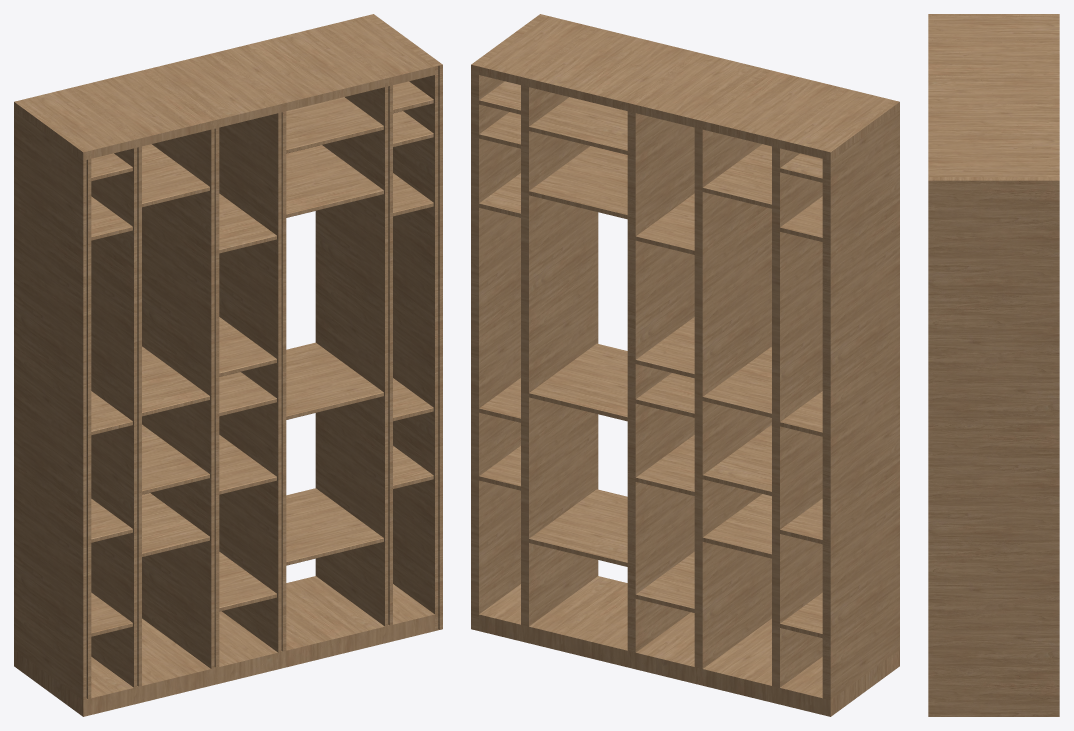
File: hotel-book-shelf.glb
The picture shows the model from 3 angles, left to right: view 1: azimuth 30°, elevation 25°; view 2: azimuth 150°, elevation 25°; view 3: azimuth 270°, elevation 25°; orthographic projection. The views are drawn at different scales.
Visible parts, largest first — view 1: book-shelf; view 2: book-shelf; view 3: book-shelf.
Part boxes in pixels (x1,y1,x2,y2): book-shelf: (14, 14, 442, 716); book-shelf: (471, 14, 899, 716); book-shelf: (928, 14, 1059, 716).
Size of the model in its own units: 1.8 by 2.7 by 0.6001.
Materials: 1 (1 with a texture image).
